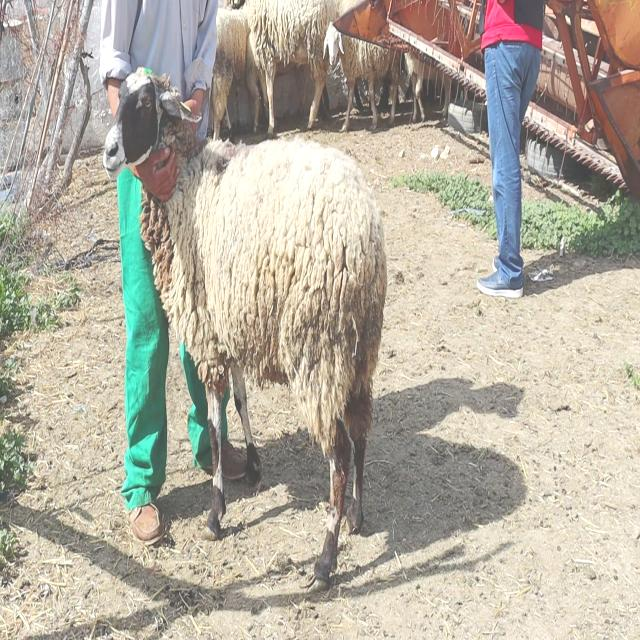Score_5: (103, 68, 387, 589)
